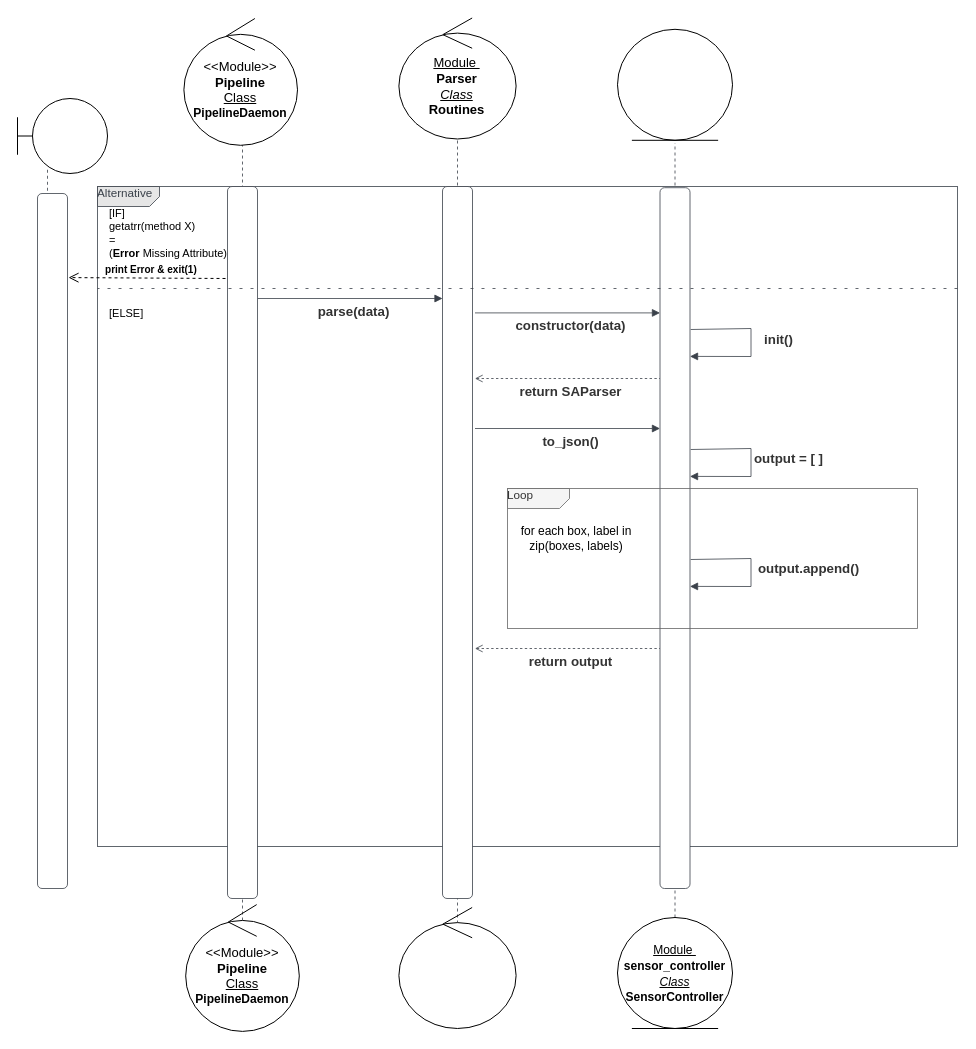
Some shapes in this 976 by 1049 pixel diagram are drawn without their labels. Here are the shapes that lost their labels. From the top down, the centre of each, then its label:
(x=674, y=84): <<Module>> Parser Class SAParser
(x=62, y=136): Terminal
(x=457, y=967): Module SensorController Class Routines
